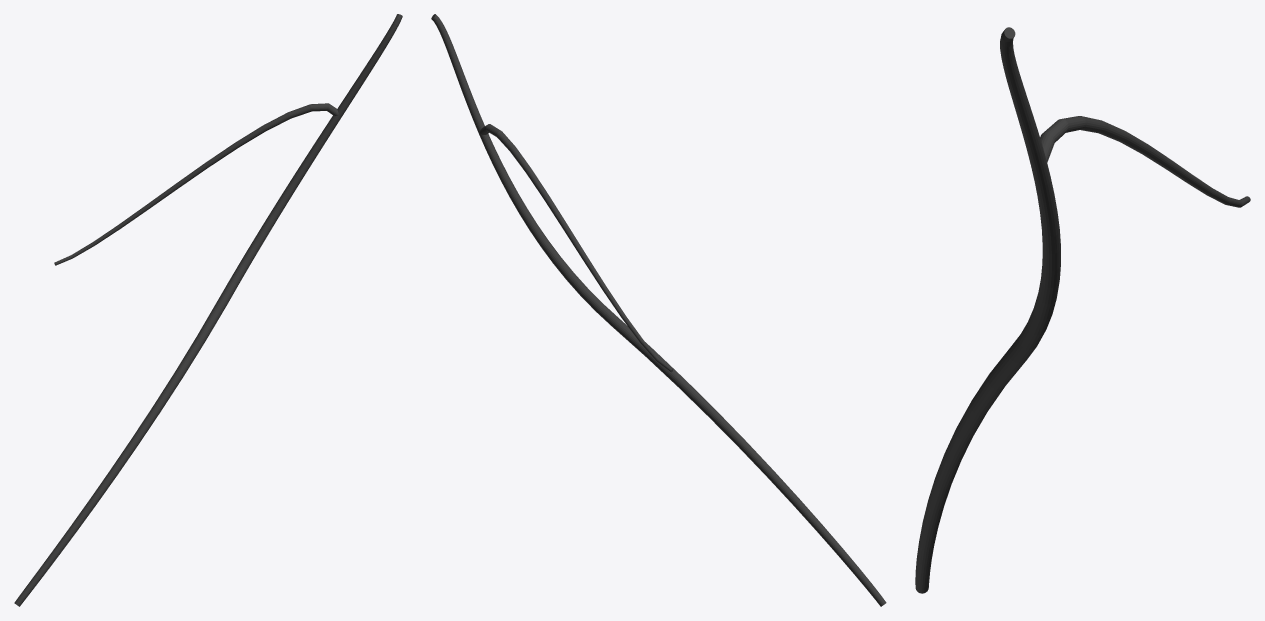
The model's file is n_V_infraorbital.glb.
3 renders of one model, left to right at view 1: azimuth 30°, elevation 25°; view 2: azimuth 150°, elevation 25°; view 3: azimuth 270°, elevation 25°, orthographic. The views are drawn at different scales.
Parts seen in each view (by area): view 1: n_V_infraorbital; view 2: n_V_infraorbital; view 3: n_V_infraorbital.
Boxes of the visible parts, x1=… form: n_V_infraorbital: x1=14, y1=14, x2=402, y2=606; n_V_infraorbital: x1=431, y1=14, x2=886, y2=606; n_V_infraorbital: x1=915, y1=27, x2=1250, y2=593.
Bounding box in the file's own units: 0.0134 × 0.015 × 0.00477.
Materials: 1 (1 with a texture image).
